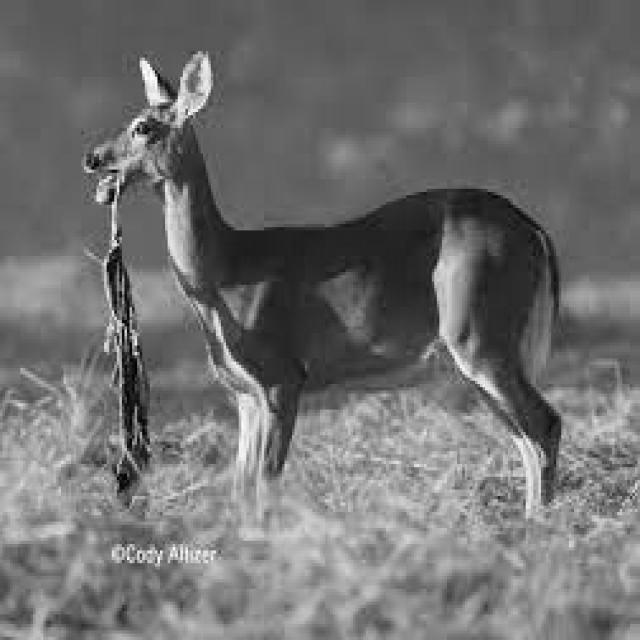Deer: (74, 58, 566, 514)
